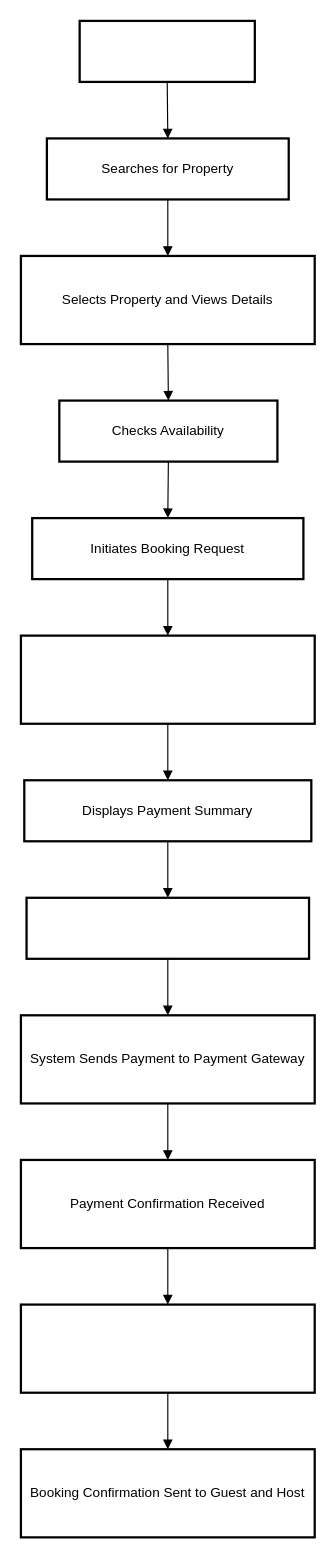
This 334x1557 diagram has some shape labels left out. The shapes that lost their labels are listed below. From the top down, each one's box as (x1, y1, x2, y2) in pixels, then its label:
(78, 19, 255, 82): Guest Logs In
(19, 634, 315, 724): System Validates Dates & Availability
(25, 896, 310, 959): Guest Enters Payment Info
(19, 1303, 315, 1393): System Creates Booking Record
